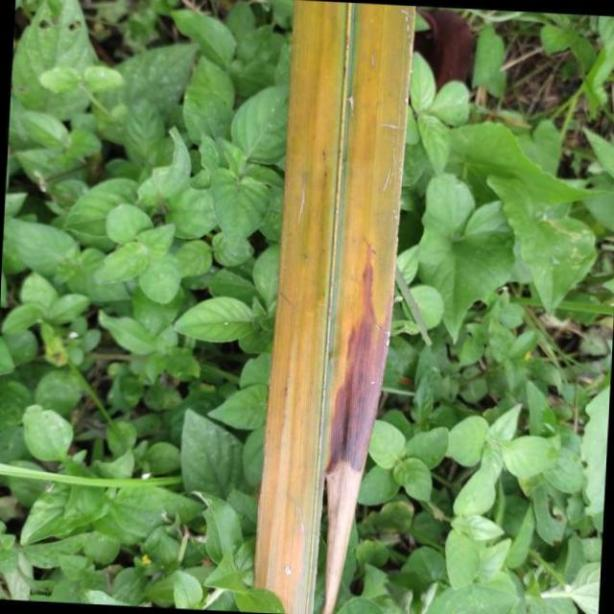Megnesium: (256, 0, 417, 614)
